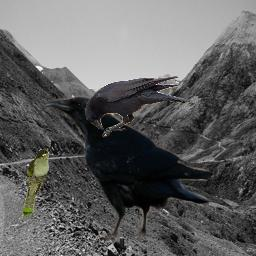Crow: (44, 94, 214, 248), (85, 76, 192, 138)
Cuckoo: (22, 149, 53, 219)
